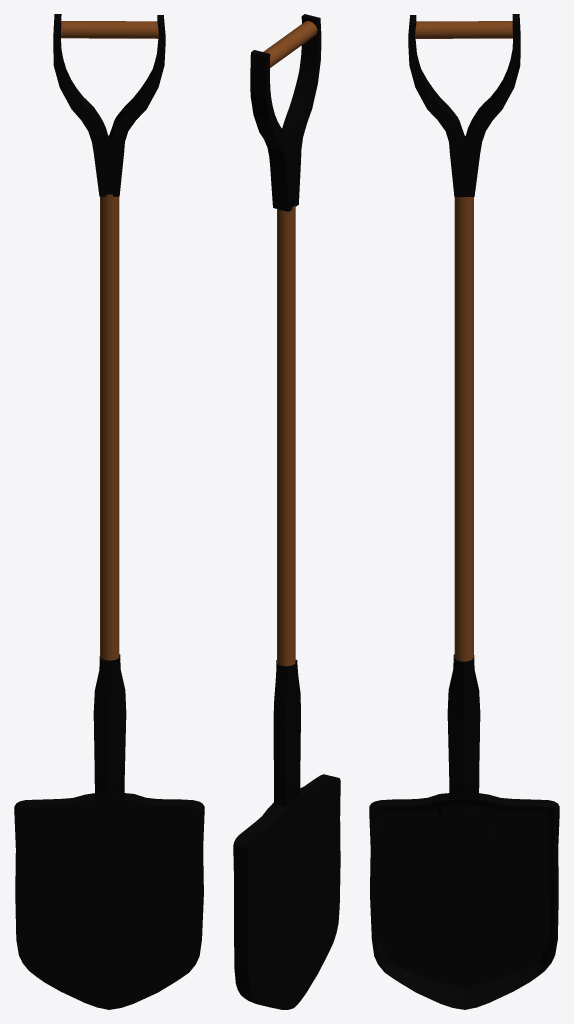
File: shovel.glb
The picture shows the model from 3 angles, left to right: view 1: azimuth 90°, elevation 25°; view 2: azimuth 150°, elevation 25°; view 3: azimuth 270°, elevation 25°; orthographic projection.
Parts seen in each view (by area): view 1: Cube; view 2: Cube; view 3: Cube.
Boxes of the visible parts, bbox=[...] form: Cube: bbox=[14, 14, 204, 1009]; Cube: bbox=[233, 14, 340, 1009]; Cube: bbox=[369, 14, 559, 1009].
Size of the model in its own units: 0.2497 by 11.17 by 1.95.
Materials: 2 (2 with a texture image).
